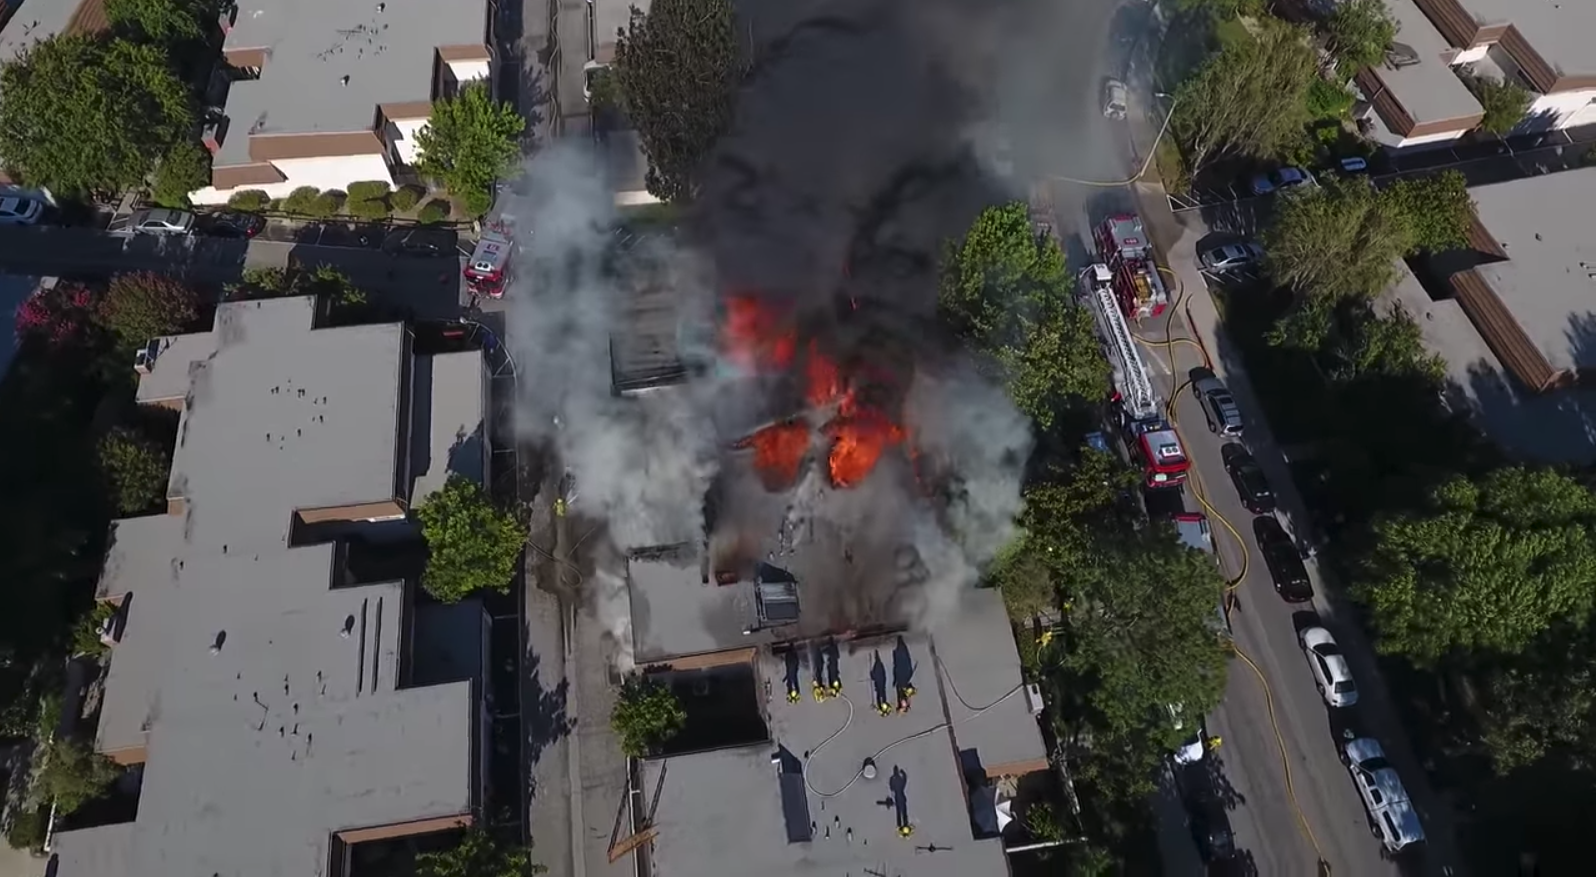fire: (682, 291, 919, 511)
